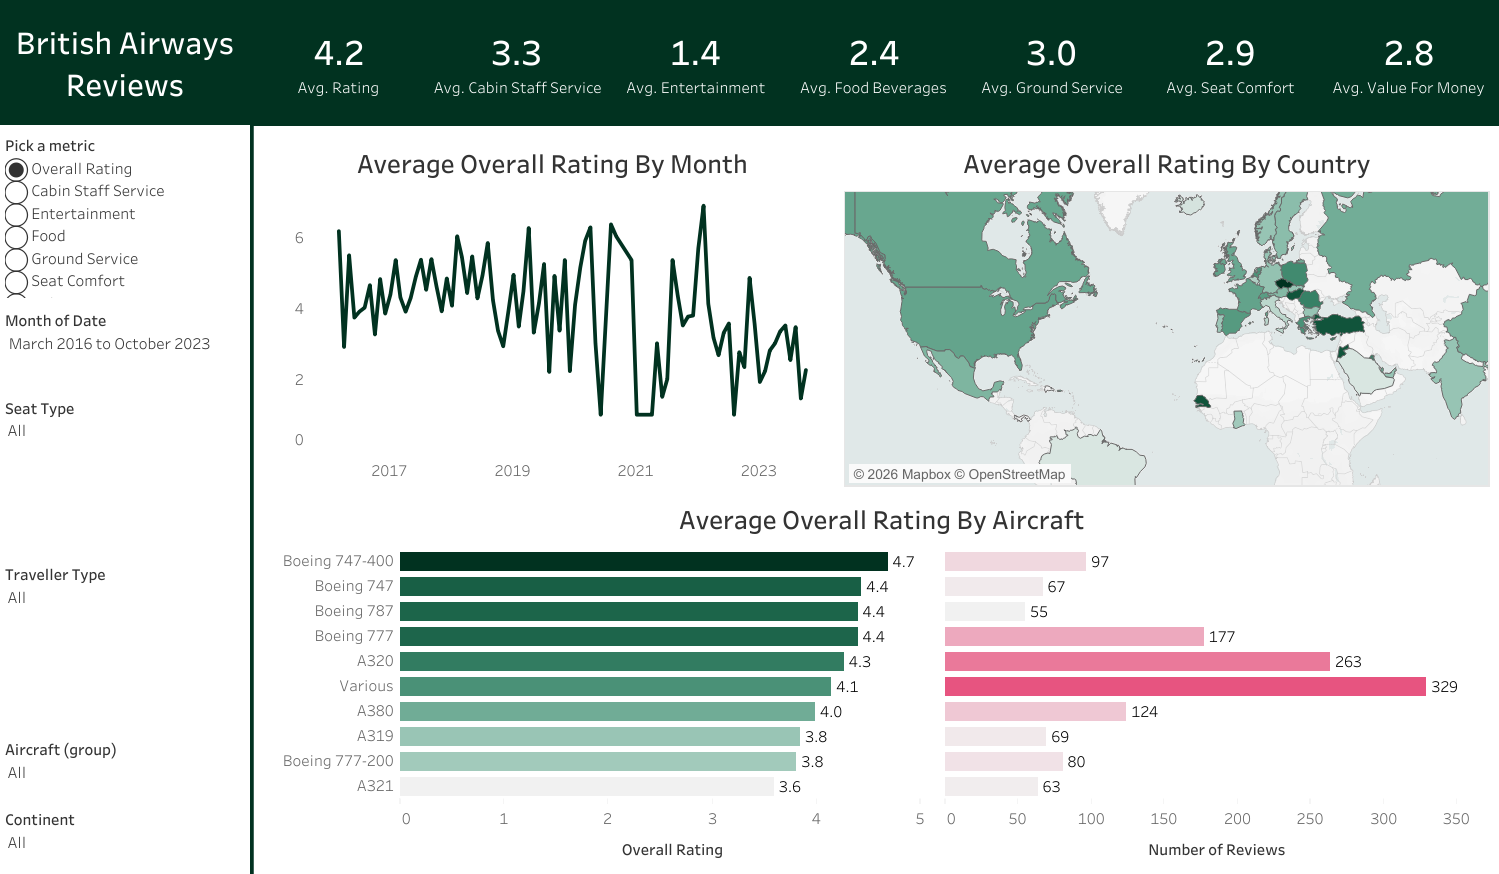

Layout of this report page (visuals, bound fields, positions):
{"tool":"tableau","page":{"name":"Dashboard 1","canvas":[1200,700],"ordinal":0},"visuals":[{"type":"text","box":[0,0,200,100]},{"type":"worksheet","title":"summary","mark":"Automatic","box":[200,0,999,100]},{"type":"blank","box":[200,100,3,600]},{"type":"parameter","param":"[Parameters].[Parameter 1]","box":[0,102,200,149]},{"type":"worksheet","title":"Month","mark":"Automatic","rows":["Calculation_467529988195790848"],"cols":["date"],"box":[220,110,444,280]},{"type":"worksheet","title":"Map","mark":"Automatic","box":[675,110,517,280]},{"type":"filter","title":"Map","param":"[federated.1pcnwoo1g4pvph10ksfk00hadk1e].[tmn:date:qk]","box":[0,251,200,69]},{"type":"filter","title":"Map","param":"[federated.1pcnwoo1g4pvph10ksfk00hadk1e].[none:seat_type:nk]","box":[0,320,200,127]},{"type":"worksheet","title":"Aircraft","mark":"Automatic","cols":["Calculation_467529988195790848","ba_reviews.csv_693B5AD7C0CC43C9AB5E245D8FB67E5F"],"box":[220,395,971,300]},{"type":"filter","title":"Map","param":"[federated.1pcnwoo1g4pvph10ksfk00hadk1e].[none:traveller_type:nk]","box":[0,447,200,146]},{"type":"filter","title":"Map","param":"[federated.1pcnwoo1g4pvph10ksfk00hadk1e].[Aircraft (group)]","box":[0,593,200,52]},{"type":"filter","title":"Map","param":"[federated.1pcnwoo1g4pvph10ksfk00hadk1e].[none:Continent:nk]","box":[0,645,200,52]}]}

Visuals, with their boxes in screenshot pixels (x1, y1, x2, y2), scaled from the page's 1200x700 canvas onto the 1499x874 screenshot:
text: box=[0, 0, 250, 125]
"summary" worksheet: box=[250, 0, 1498, 125]
blank: box=[250, 125, 254, 873]
parameter: box=[0, 127, 250, 313]
"Month" worksheet: box=[275, 137, 829, 487]
"Map" worksheet: box=[843, 137, 1489, 487]
"Map" filter: box=[0, 313, 250, 400]
"Map" filter: box=[0, 400, 250, 558]
"Aircraft" worksheet: box=[275, 493, 1488, 868]
"Map" filter: box=[0, 558, 250, 740]
"Map" filter: box=[0, 740, 250, 805]
"Map" filter: box=[0, 805, 250, 870]
